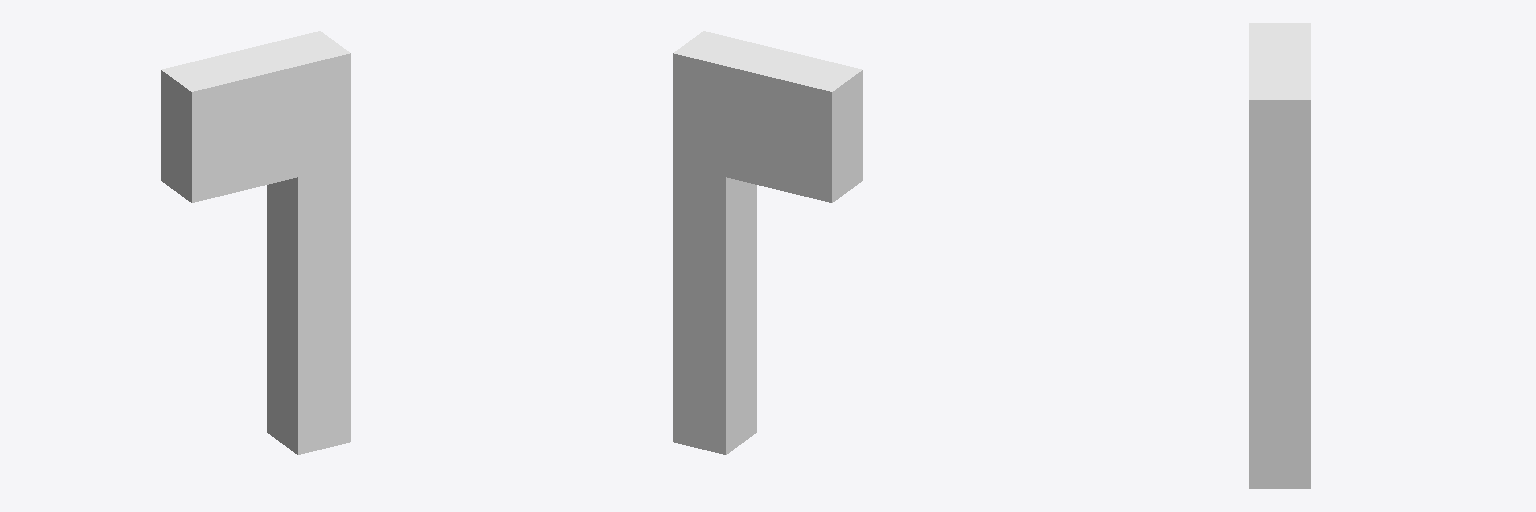
The model's file is axe_1.obj.
3 renders of one model, left to right at view 1: azimuth 30°, elevation 25°; view 2: azimuth 150°, elevation 25°; view 3: azimuth 270°, elevation 25°, orthographic.
Visible parts, largest first — view 1: hand; view 2: hand; view 3: hand.
Part boxes in pixels (x1,y1,x2,y2): hand: (161,31,350,454); hand: (673,31,862,454); hand: (1249,23,1310,488).
Size of the model in its own units: 0.3 by 0.7 by 0.1.